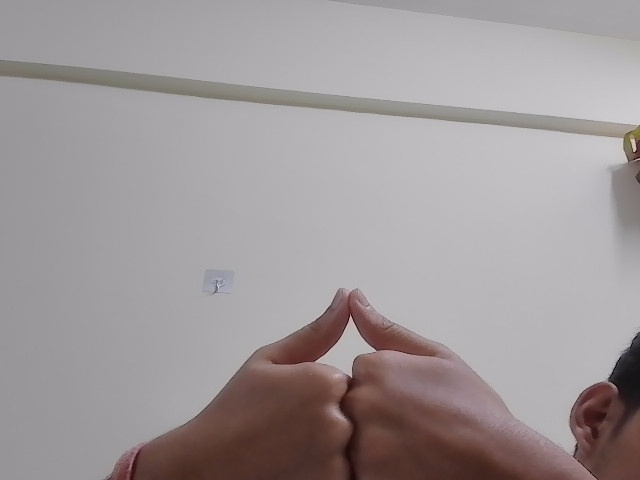A: (125, 261, 563, 478)
